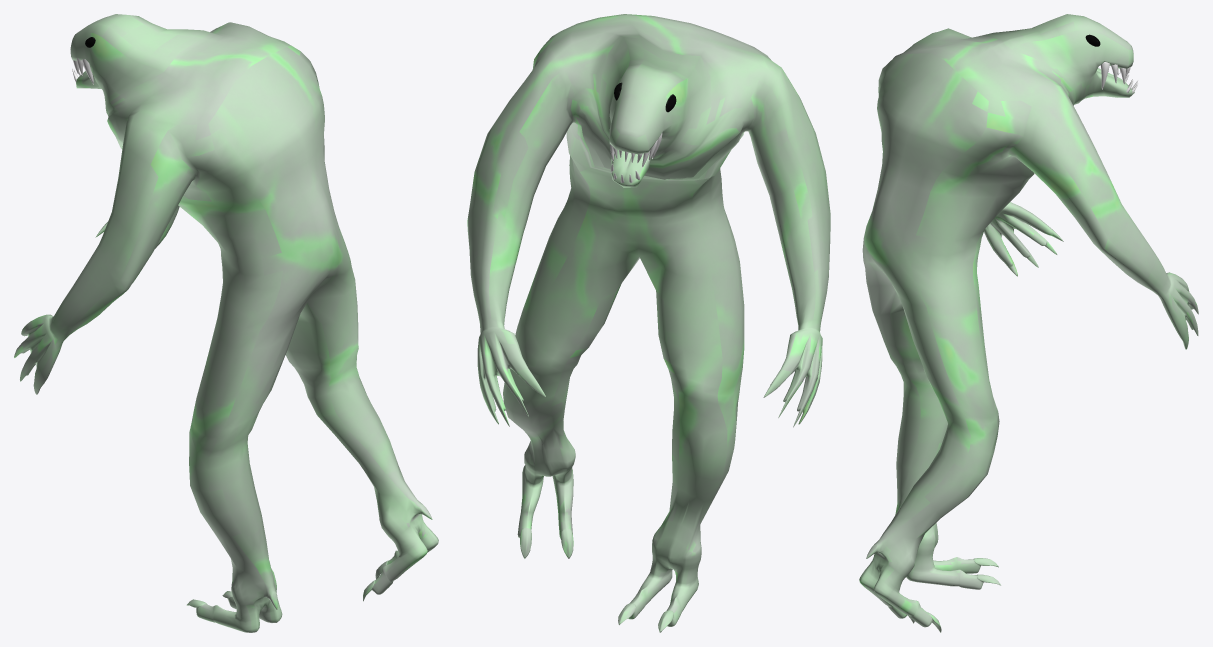
File: Berserkeraranar.0054.obj
3 views of the same model, side by side, from view 1: azimuth 30°, elevation 25°; view 2: azimuth 150°, elevation 25°; view 3: azimuth 270°, elevation 25° (orthographic). The views are drawn at different scales.
Visible parts, largest first — view 1: polySurface27; view 2: polySurface27; view 3: polySurface27.
Part boxes in pixels (left/top/right/bottom): polySurface27: left=14, top=14, right=438, bottom=632; polySurface27: left=467, top=14, right=830, bottom=632; polySurface27: left=859, top=14, right=1198, bottom=632.
Size of the model in its own units: 13.95 by 22.26 by 12.65.
1 material, 1 textured.
